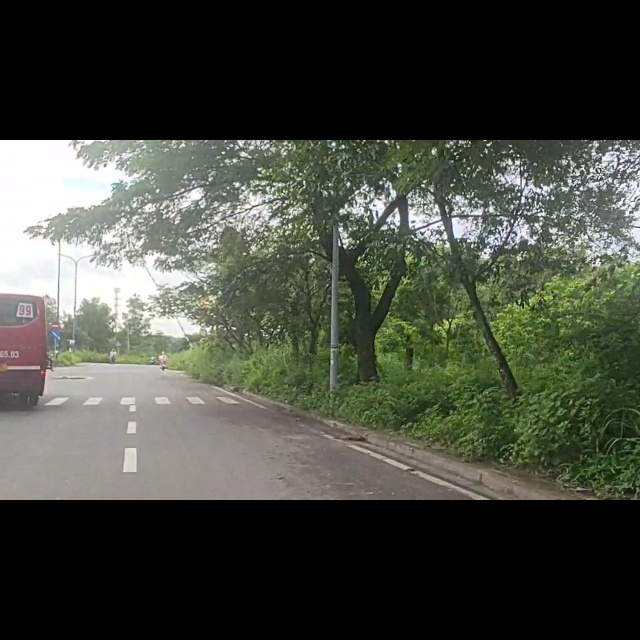bien_hieu_lenh: (50, 321, 61, 339), (50, 339, 61, 354)
